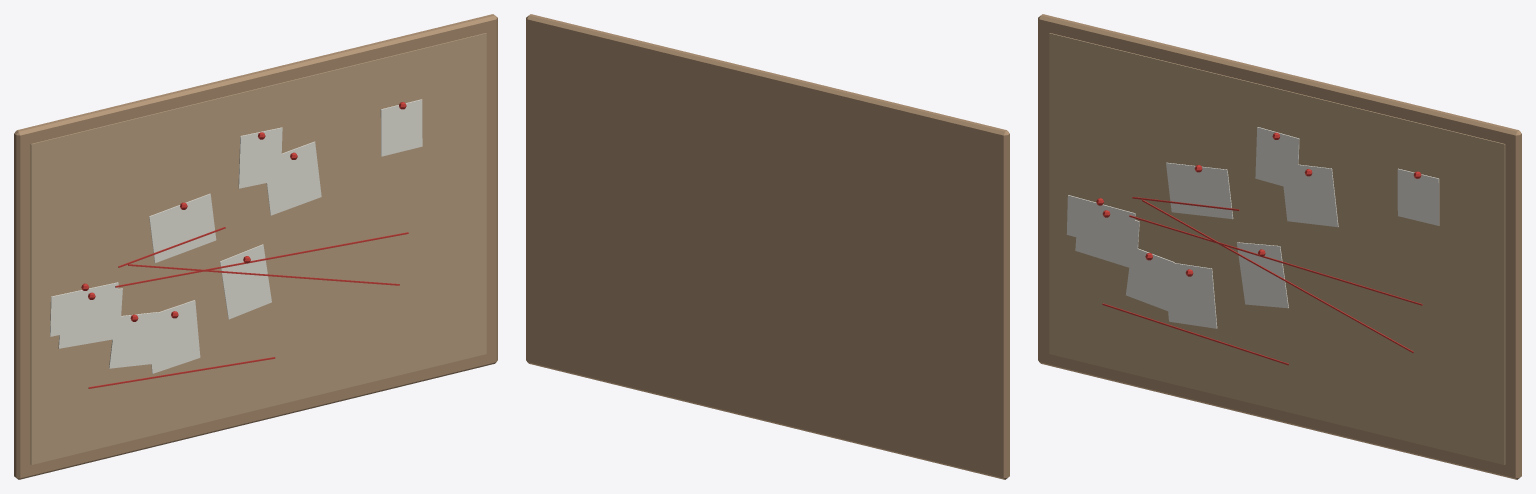
Rendered from cork_board.fbx.
3 views of the same model, side by side, from view 1: azimuth 30°, elevation 25°; view 2: azimuth 150°, elevation 25°; view 3: azimuth 330°, elevation 25° (orthographic).
Parts seen in each view (by area): view 1: Board; view 2: Board; view 3: Board.
Boxes of the visible parts, <box> form: Board: <box>14,14,497,479</box>; Board: <box>526,14,1009,479</box>; Board: <box>1038,14,1521,479</box>.
Bounding box in the file's own units: 1.1 × 0.76 × 0.036.
